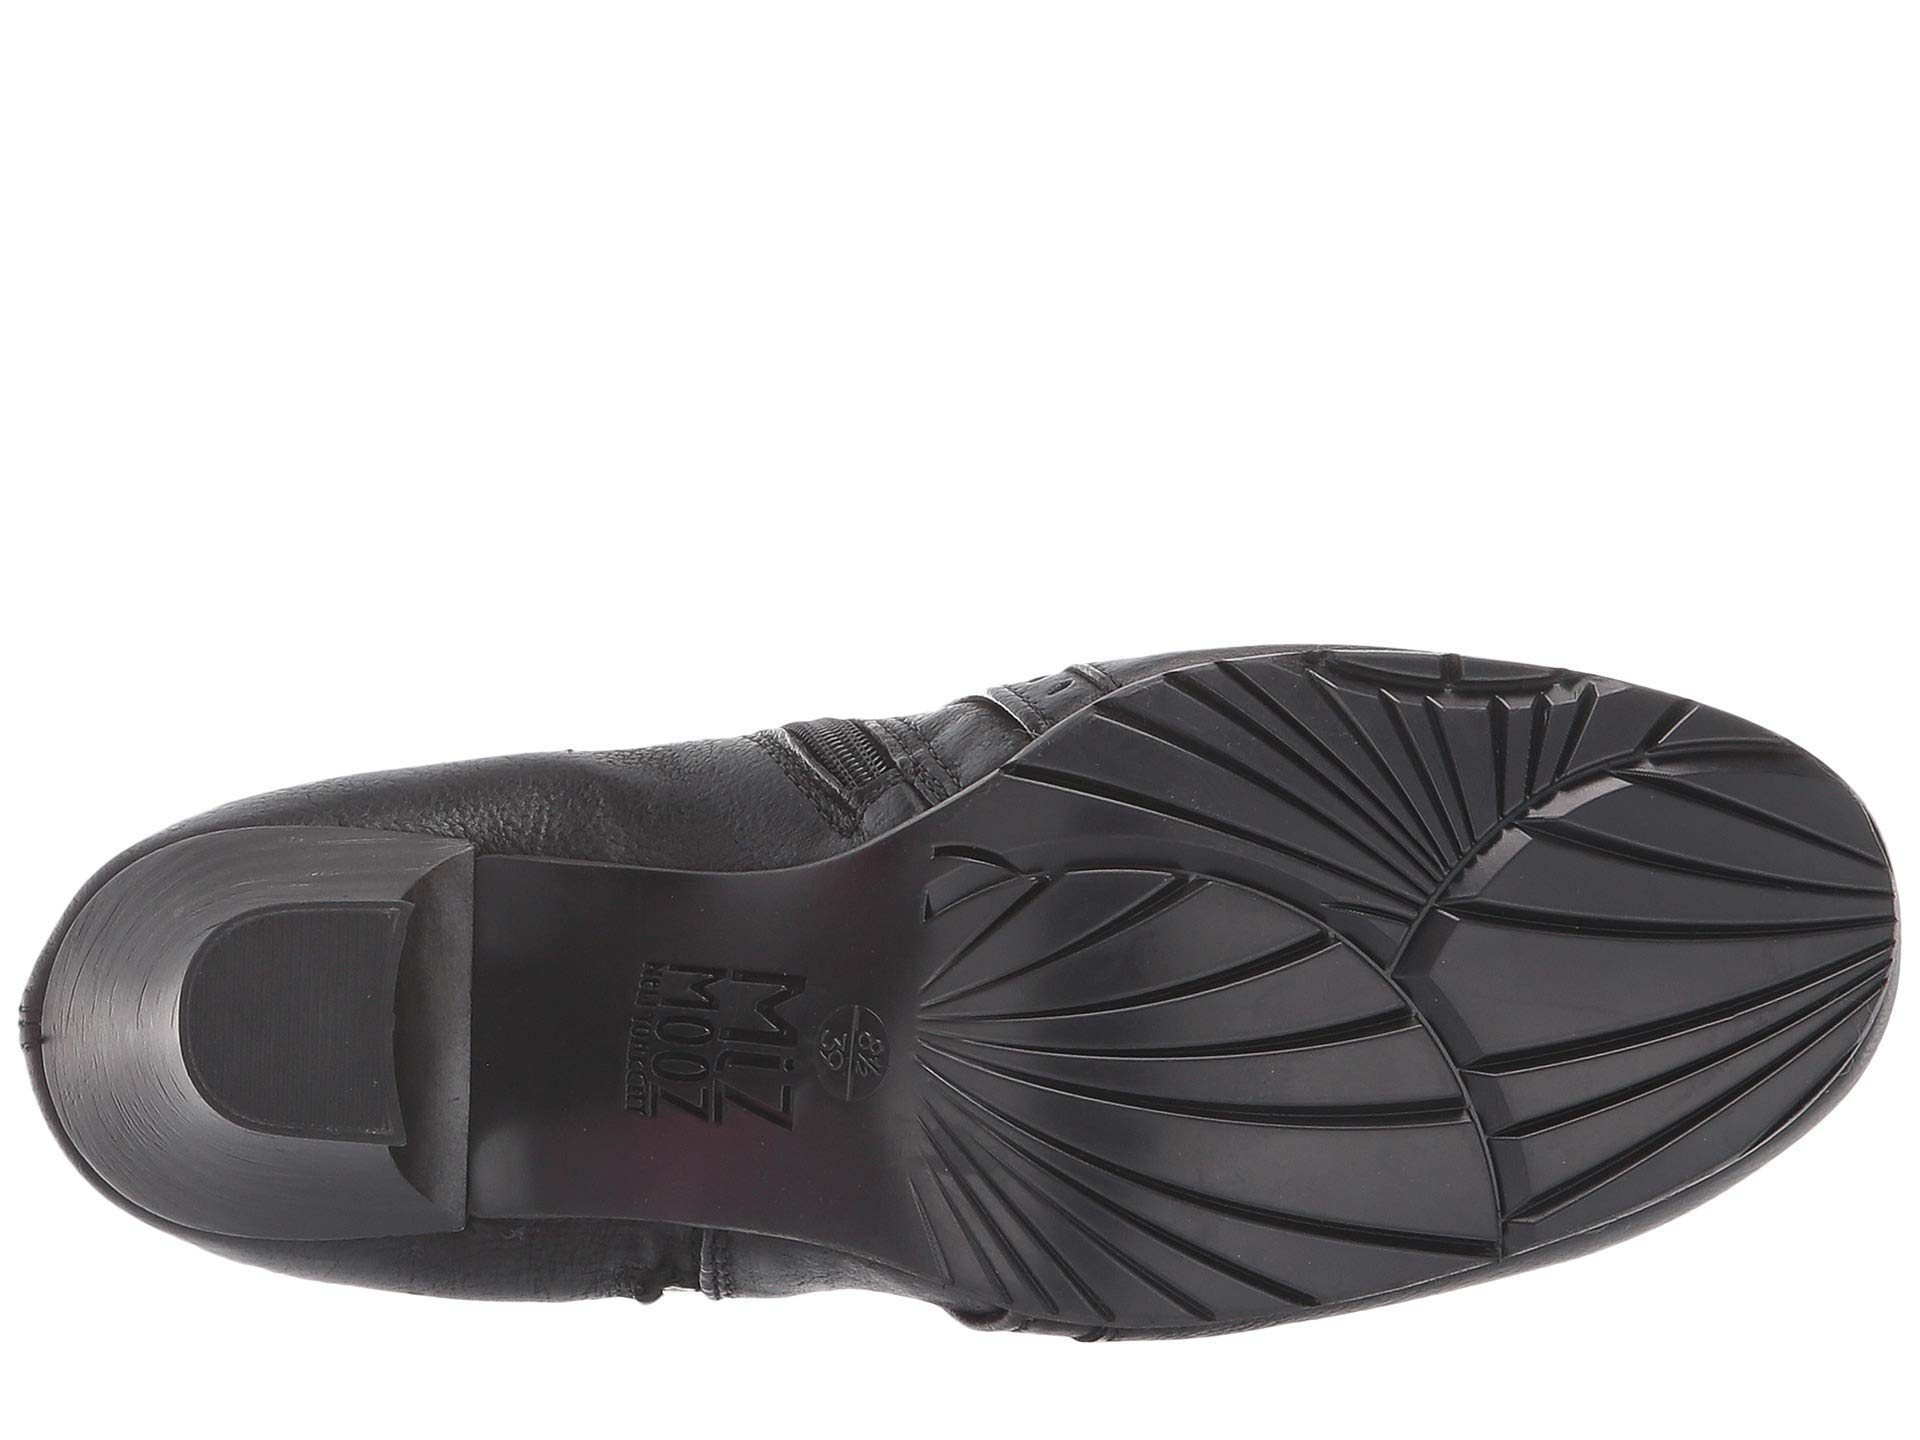circle: (567, 889, 807, 1175), (813, 979, 892, 1148)
line: (909, 832, 1333, 1042)
text: (567, 889, 807, 1175), (813, 979, 892, 1148)
triangle: (909, 832, 1333, 1042)
